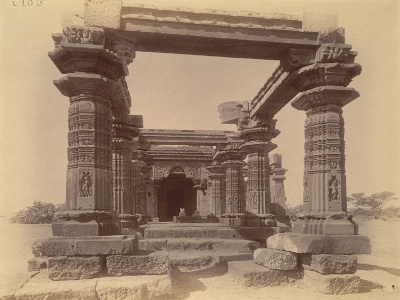mandapa: (36, 17, 369, 237)
